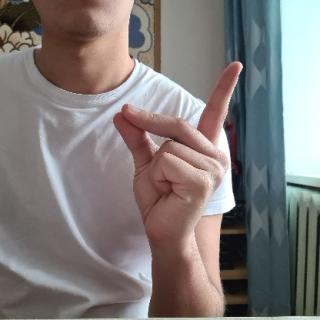TAA: (110, 58, 248, 252)
